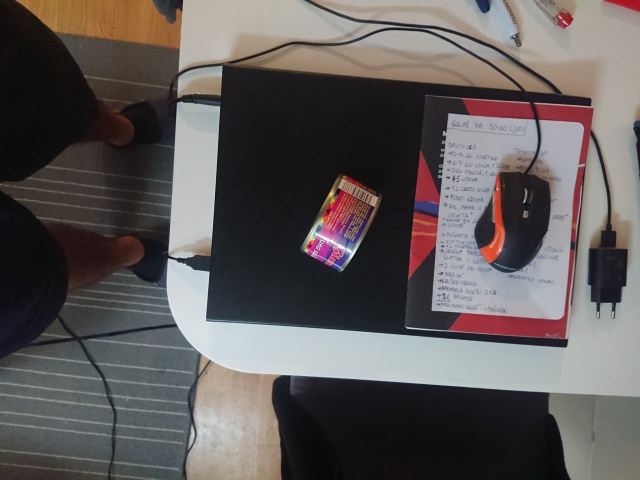Giana Tuna Salad Mexico 185g: (297, 170, 384, 276)
